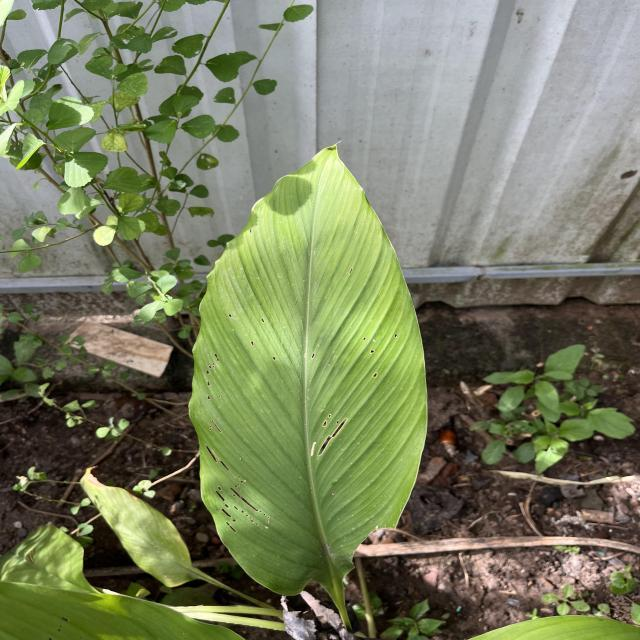Curcuma longa: (186, 136, 430, 600)
